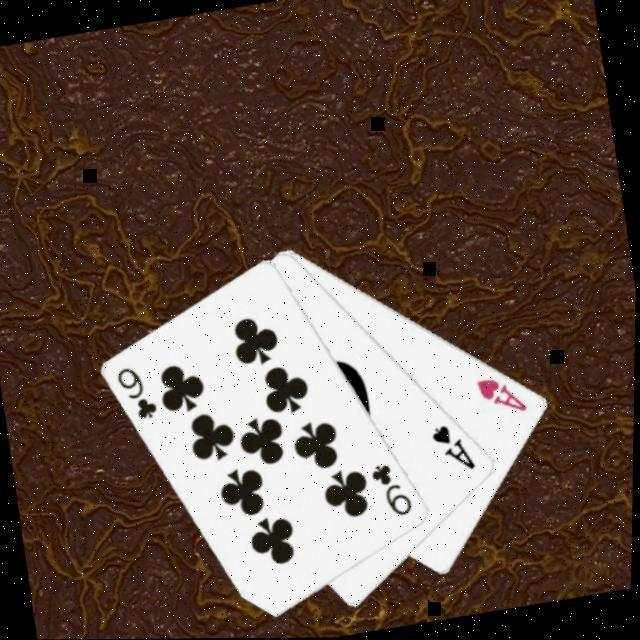9C: (367, 456, 419, 524), (112, 358, 164, 426)
AH: (472, 369, 532, 422)
AS: (428, 418, 480, 478)
